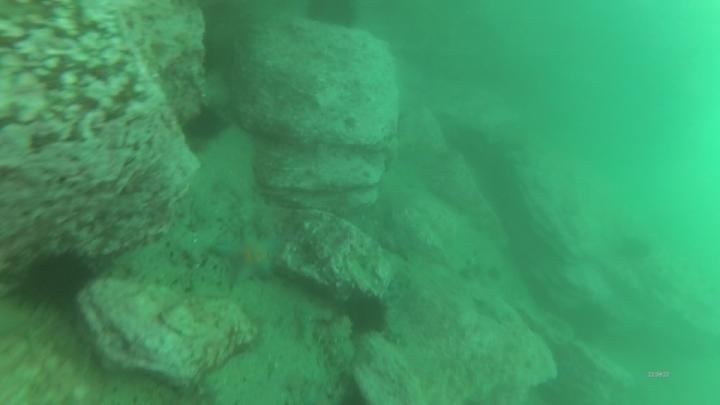echinus: (15, 244, 94, 312), (343, 290, 390, 336), (301, 1, 362, 32), (182, 104, 227, 145), (612, 232, 654, 265)
holothurian: (309, 311, 357, 376)
starfish: (208, 227, 287, 290), (470, 292, 518, 326)
